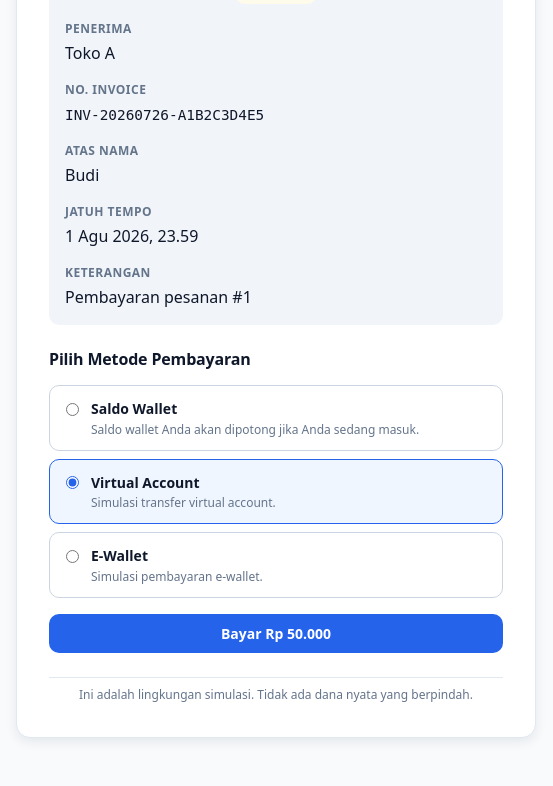
Test: method selection (SRS §2.4) › surfaces a rejection from the server
(page scrolled)
Click the button "Bayar Rp 50.000" at (276, 634), box [49,614,503,654]
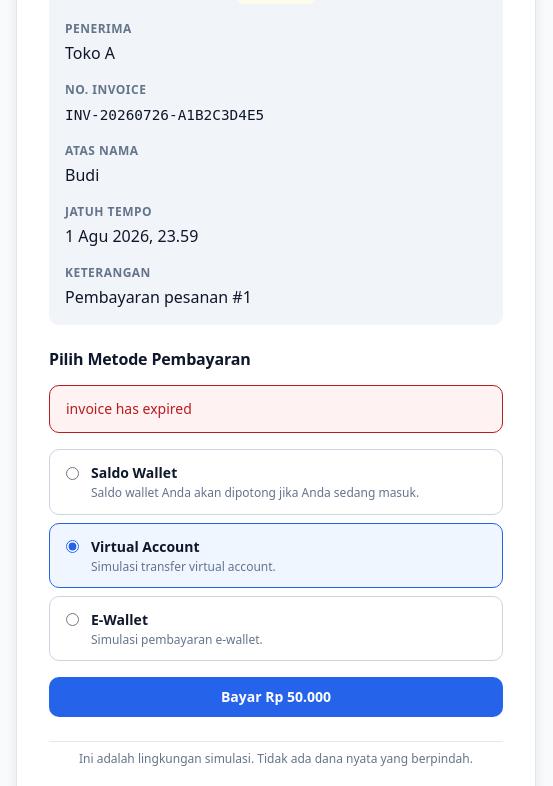
Result: the message reads "invoice has expired" at [66,399,192,418]
